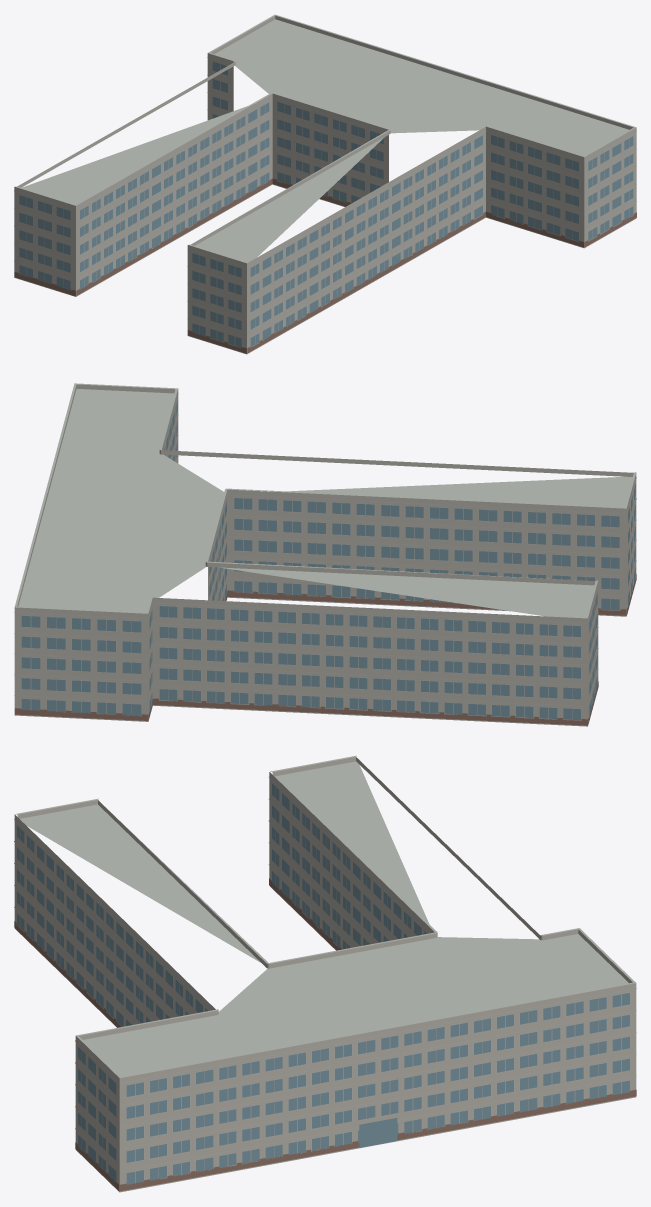
File: public-89ab759d-4514-4084-b0aa-8457149cc4b3.glb
3 views of the same model, one above another, from view 1: azimuth 30°, elevation 25°; view 2: azimuth 150°, elevation 25°; view 3: azimuth 270°, elevation 25° (orthographic). The views are drawn at different scales.
Parts seen in each view (by area): view 1: public-89ab759d-4514-4084-b0aa-8457149cc4b3; view 2: public-89ab759d-4514-4084-b0aa-8457149cc4b3; view 3: public-89ab759d-4514-4084-b0aa-8457149cc4b3.
Boxes of the visible parts, bbox=[...] form: public-89ab759d-4514-4084-b0aa-8457149cc4b3: bbox=[14, 14, 636, 354]; public-89ab759d-4514-4084-b0aa-8457149cc4b3: bbox=[14, 383, 636, 726]; public-89ab759d-4514-4084-b0aa-8457149cc4b3: bbox=[14, 755, 636, 1192].
Bounding box in the file's own units: 92.51 × 15.25 × 75.36.
